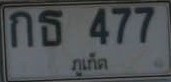txt01: (8, 10, 34, 49)
txt19: (37, 9, 64, 48)
